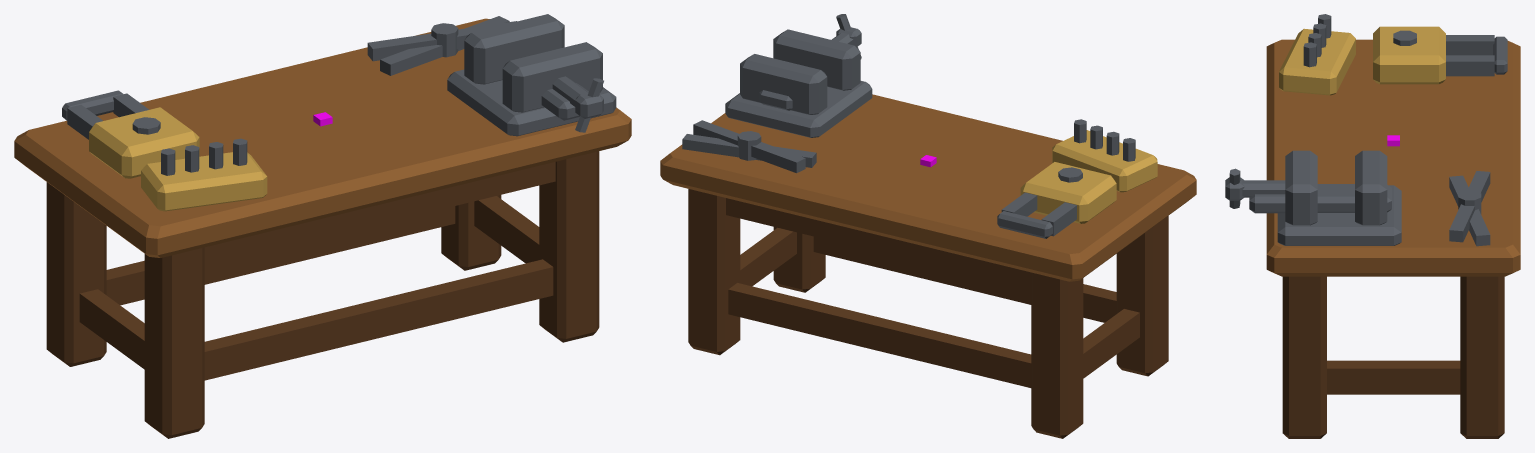
Rendered from FRG_Workbench.fbx.
3 views of the same model, side by side, from view 1: azimuth 30°, elevation 25°; view 2: azimuth 150°, elevation 25°; view 3: azimuth 270°, elevation 25° (orthographic). The views are drawn at different scales.
Parts seen in each view (by area): view 1: Legs, Top, Vise, Props, Props_Steel; view 2: Legs, Top, Vise, Props_Steel, Props; view 3: Top, Legs, Vise, Props, Props_Steel.
Boxes of the visible parts, x1,y1,x2,y2 form: Legs: (46, 151, 599, 438); Top: (14, 18, 631, 257); Vise: (447, 14, 616, 136); Props: (89, 107, 267, 211); Props_Steel: (62, 16, 516, 175); Legs: (688, 189, 1168, 438); Top: (660, 94, 1196, 281); Vise: (725, 14, 872, 137); Props_Steel: (682, 119, 1135, 238); Props: (1020, 130, 1157, 223); Top: (1266, 39, 1520, 276); Legs: (1282, 276, 1504, 438); Vise: (1225, 150, 1401, 245); Props: (1279, 26, 1445, 95); Props_Steel: (1303, 14, 1507, 246).
Size of the model in its own units: 8 by 4.47 by 4.65.
